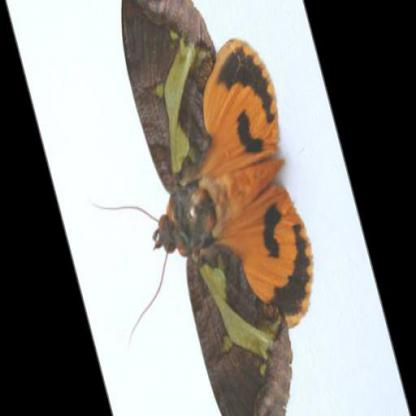fruit sucking moth: (124, 0, 312, 415)
